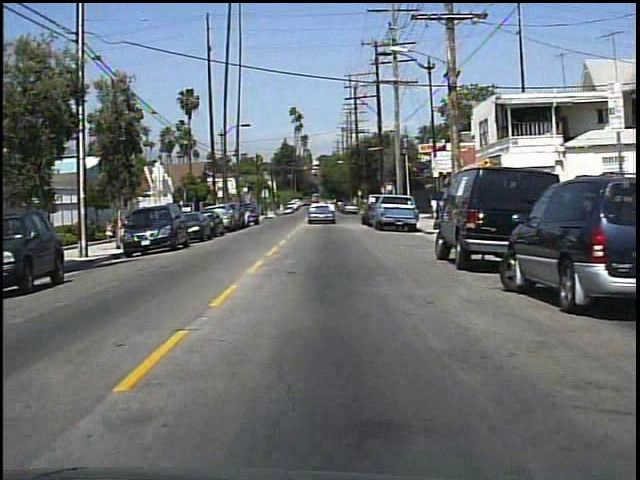person: (426, 194, 443, 223)
